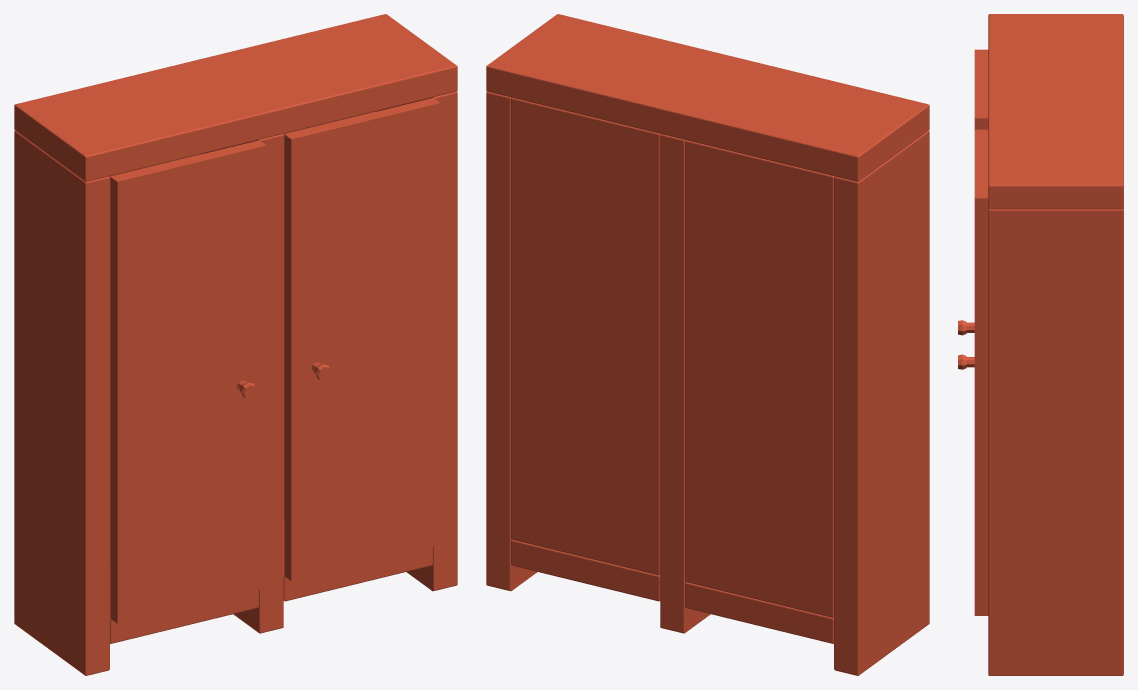
File: Dolap.fbx
The picture shows the model from 3 angles, left to right: view 1: azimuth 30°, elevation 25°; view 2: azimuth 150°, elevation 25°; view 3: azimuth 270°, elevation 25°; orthographic projection. The views are drawn at different scales.
Parts seen in each view (by area): view 1: Dolap; view 2: Dolap; view 3: Dolap.
Boxes of the visible parts, left/top/right/bottom form: Dolap: left=14, top=14, right=457, bottom=675; Dolap: left=486, top=14, right=929, bottom=675; Dolap: left=958, top=14, right=1123, bottom=675.
Bounding box in the file's own units: 1.5 × 2 × 0.6115.
